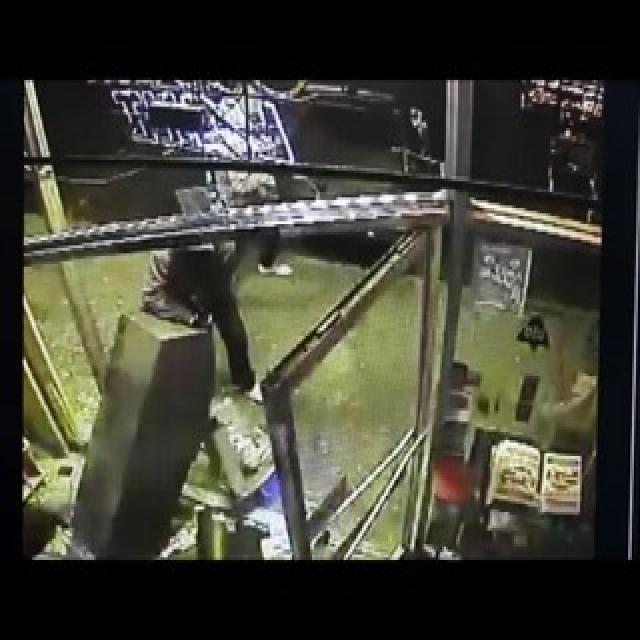thief: (162, 218, 262, 316)
